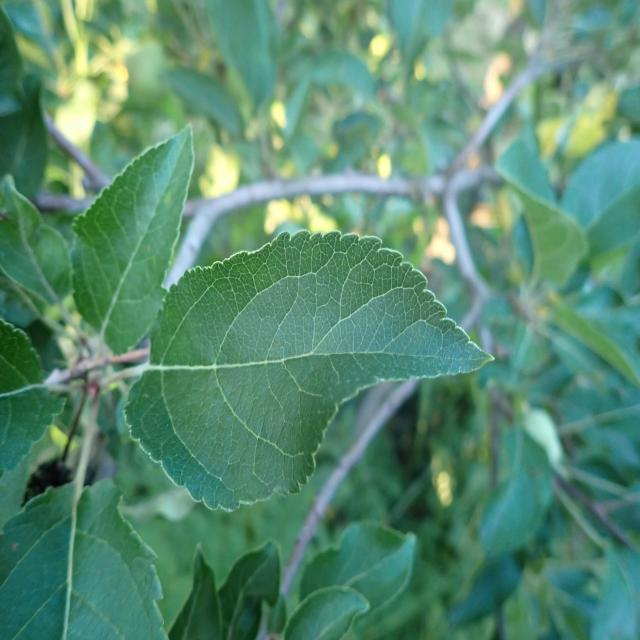healthy: (124, 230, 496, 513), (72, 125, 195, 356), (0, 478, 169, 640), (282, 519, 417, 640), (167, 537, 282, 640), (0, 318, 69, 476)
